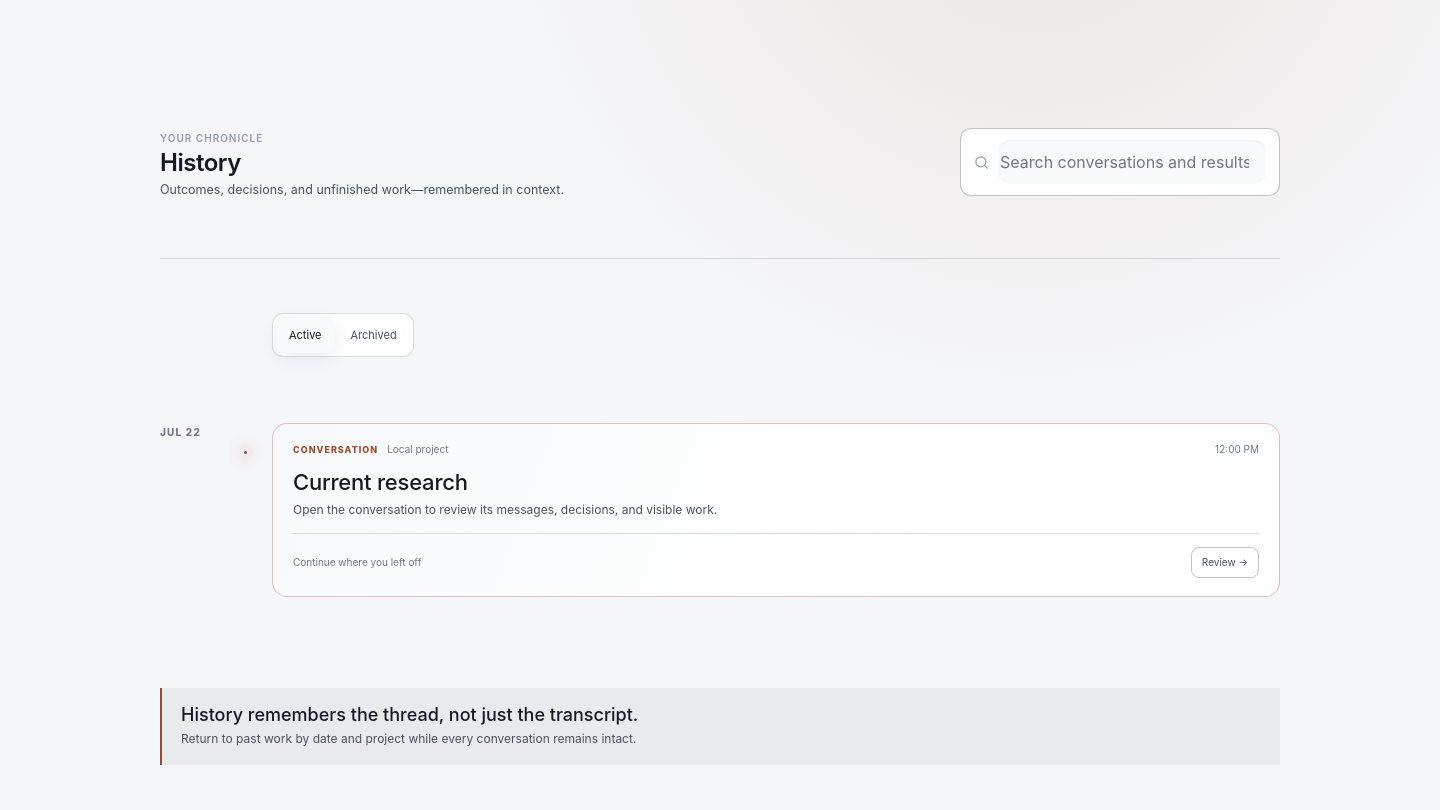
Test: Chats page › shows project-owned active and archived truth with usable rows
Click the button "Archived".
click(374, 335)  # box [338, 317, 410, 353]
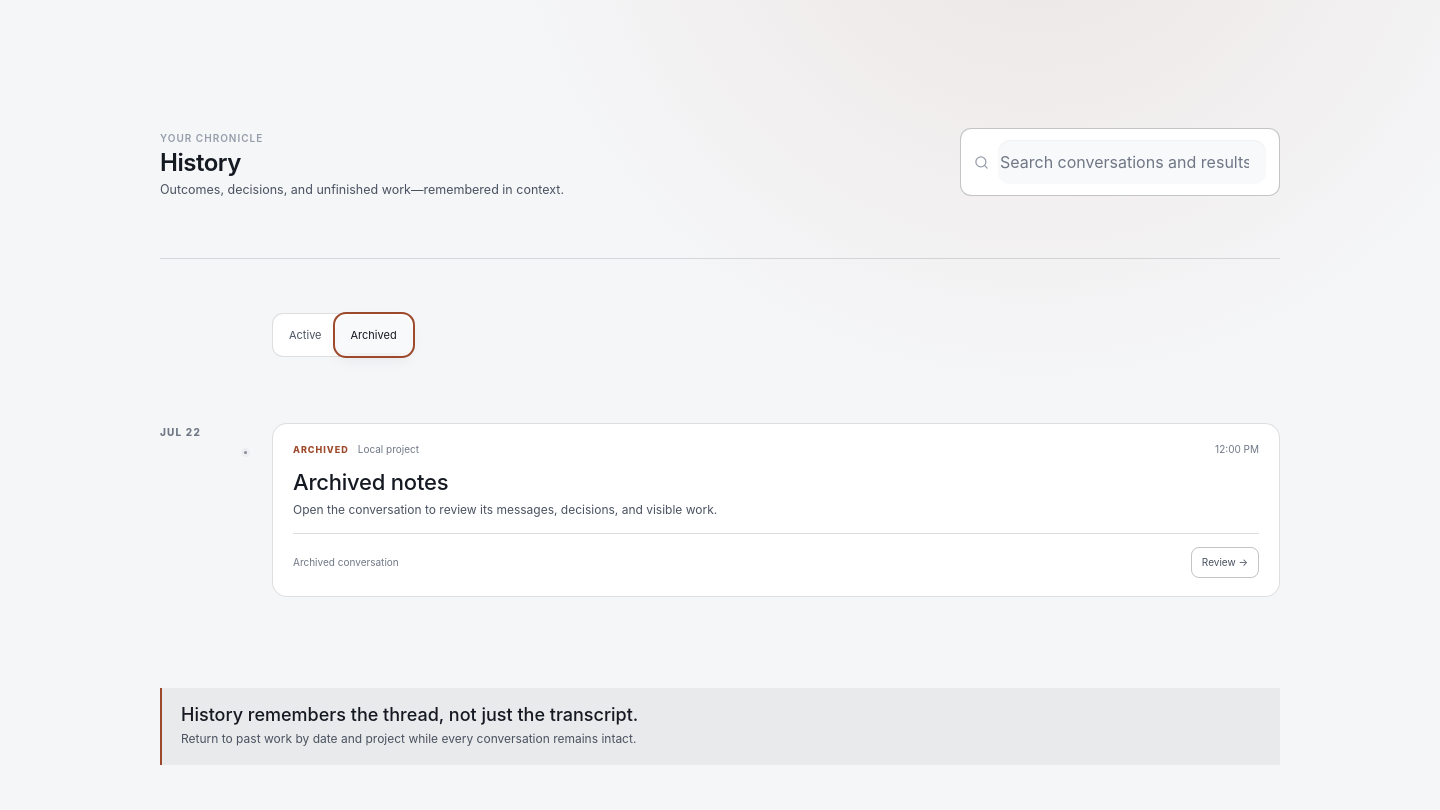
expect the link "Archived notes" is shown: met, box [272, 423, 1280, 597]
